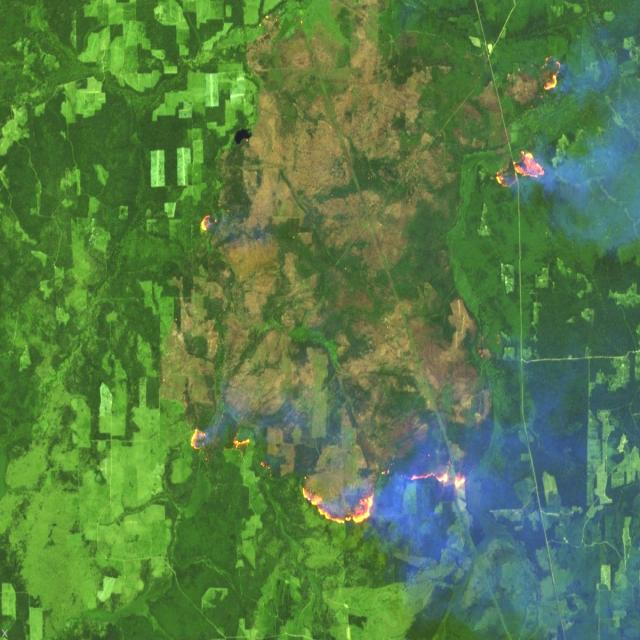fire: (184, 415, 473, 531), (488, 55, 566, 193), (197, 206, 219, 240)
